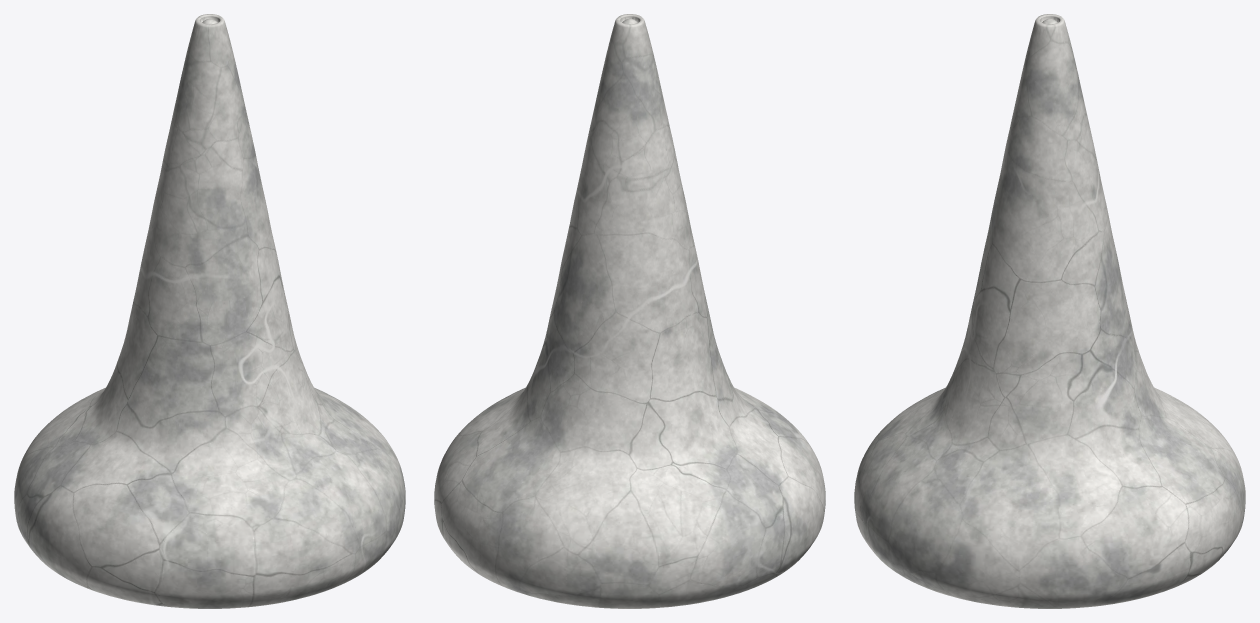
Rendered from pawn-white-hd.glb.
3 views of the same model, side by side, from view 1: azimuth 30°, elevation 25°; view 2: azimuth 150°, elevation 25°; view 3: azimuth 270°, elevation 25° (orthographic).
Parts seen in each view (by area): view 1: Serpentina_pawn_white; view 2: Serpentina_pawn_white; view 3: Serpentina_pawn_white.
Boxes of the visible parts, x1,y1,x2,y2 form: Serpentina_pawn_white: (14,14,405,608); Serpentina_pawn_white: (434,14,825,608); Serpentina_pawn_white: (854,14,1245,608).
Size of the model in its own units: 0.6553 by 0.95 by 0.6554.
1 material, 1 textured.
